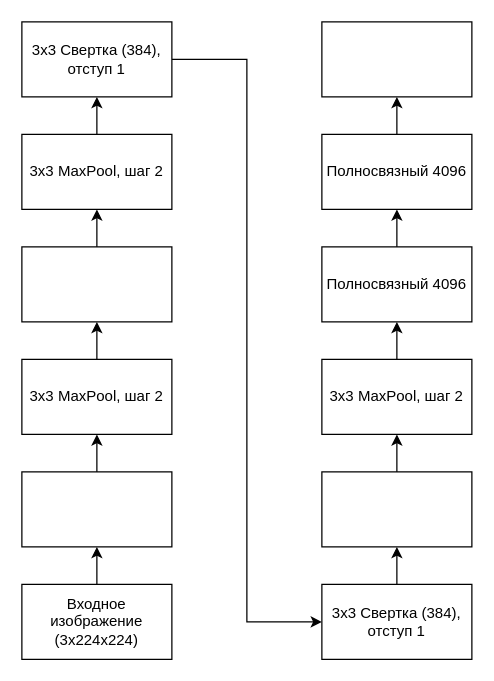
Some shapes in this 494 by 681 pixel diagram are drawn without their labels. Here are the shapes that lost their labels. From the top down, the box of each, then its label:
(321, 21, 472, 97): Полносвязный 1000
(21, 246, 172, 322): 5х5 Свертка (256), отступ 2
(21, 471, 172, 547): 11х11 Свертка (96), шаг 4
(321, 471, 472, 547): 3х3 Свертка (256), отступ 1
